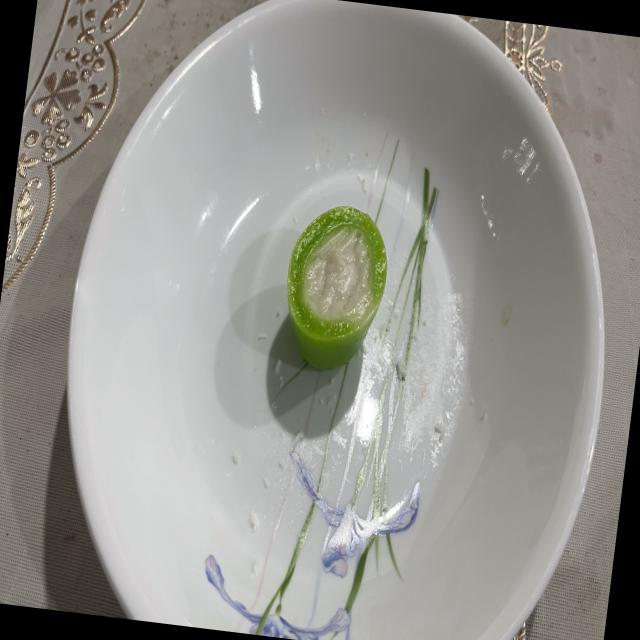nona-manis: (287, 206, 387, 370)
